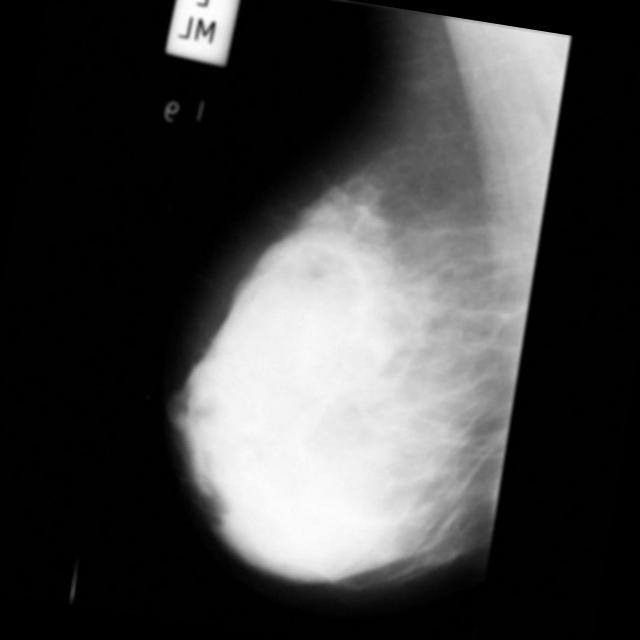ARCH: (256, 200, 345, 288)
